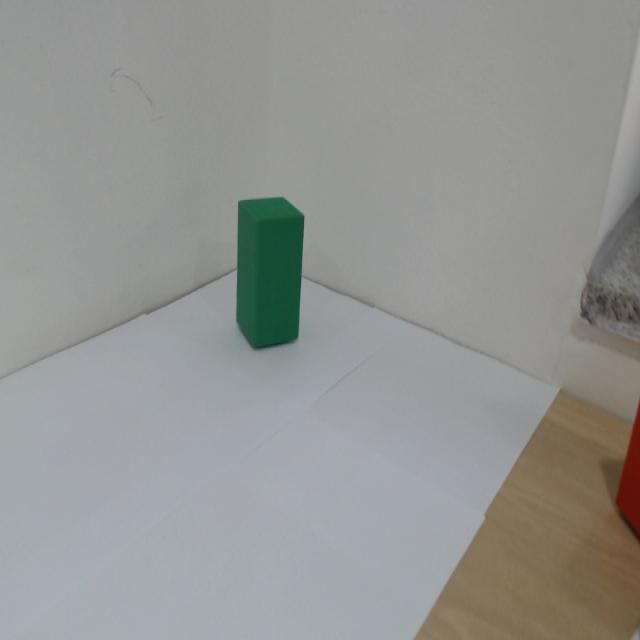cube: (224, 158, 345, 403)
